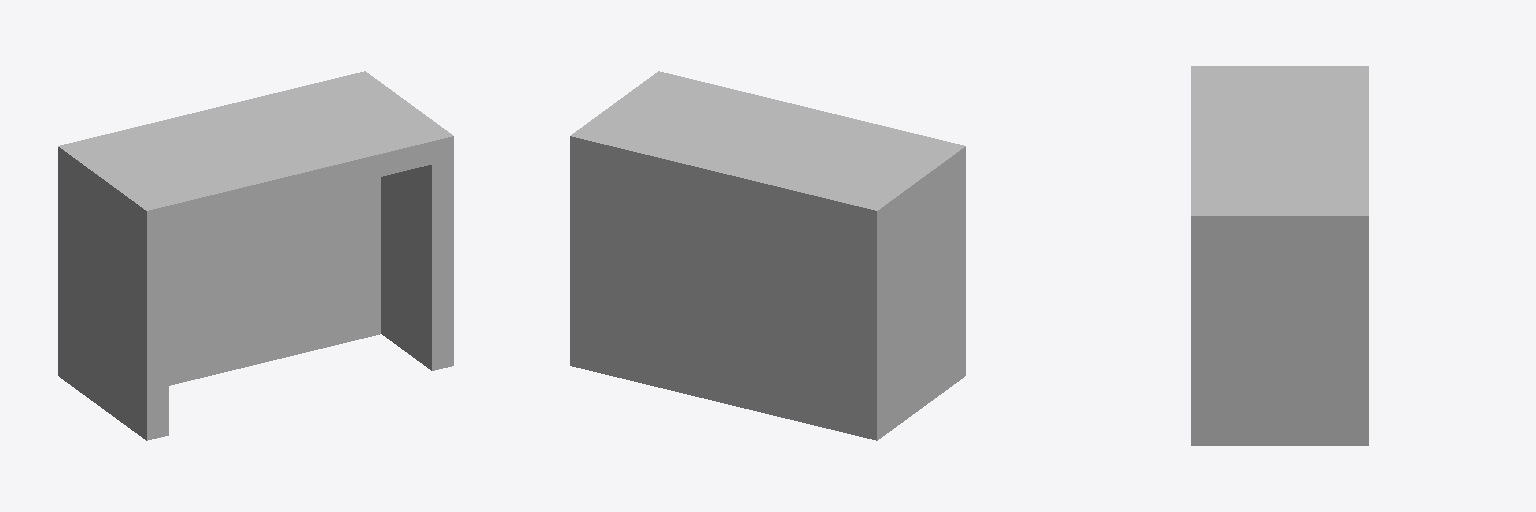
Rendered from large_table.obj.
The picture shows the model from 3 angles: view 1: azimuth 30°, elevation 25°; view 2: azimuth 150°, elevation 25°; view 3: azimuth 270°, elevation 25°; orthographic projection.
Visible parts, largest first — view 1: object 1; view 2: object 1; view 3: object 1.
Boxes of the visible parts, box(x1,y1,x2,y2) form: object 1: box(58, 71, 453, 440); object 1: box(570, 71, 965, 440); object 1: box(1191, 66, 1368, 445).
Bounding box in the file's own units: 1.4 × 1 × 0.7.